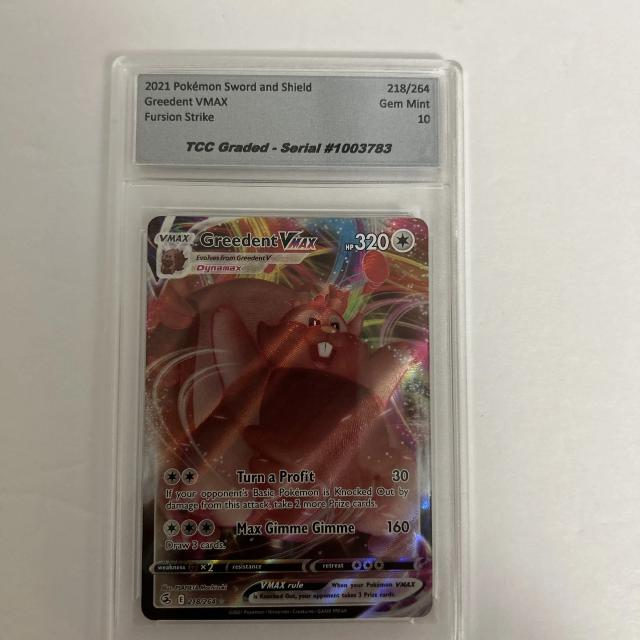Card: (139, 208, 439, 624)
Name: (194, 224, 322, 255)
